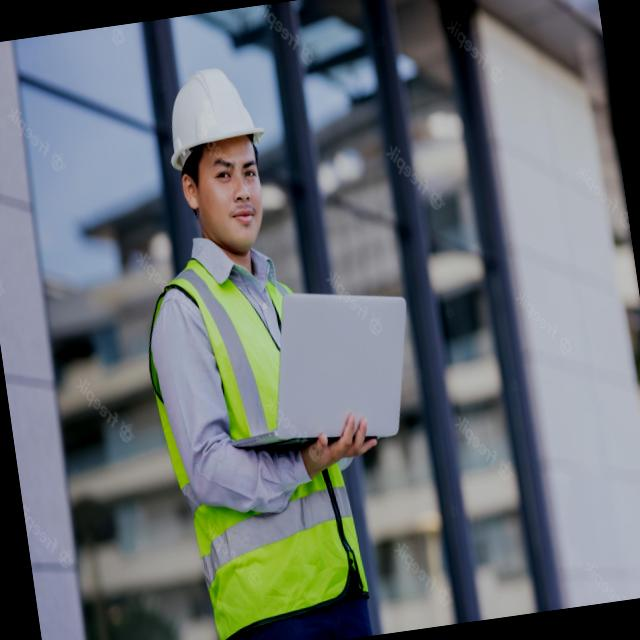helmet: (150, 52, 275, 178)
no-goggles: (182, 140, 276, 210)
vest: (145, 236, 374, 622)
